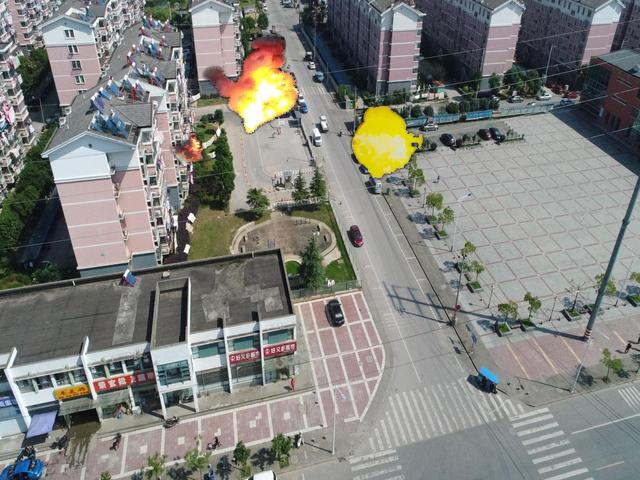fire: (202, 31, 301, 134), (351, 106, 423, 177), (170, 133, 203, 166)
